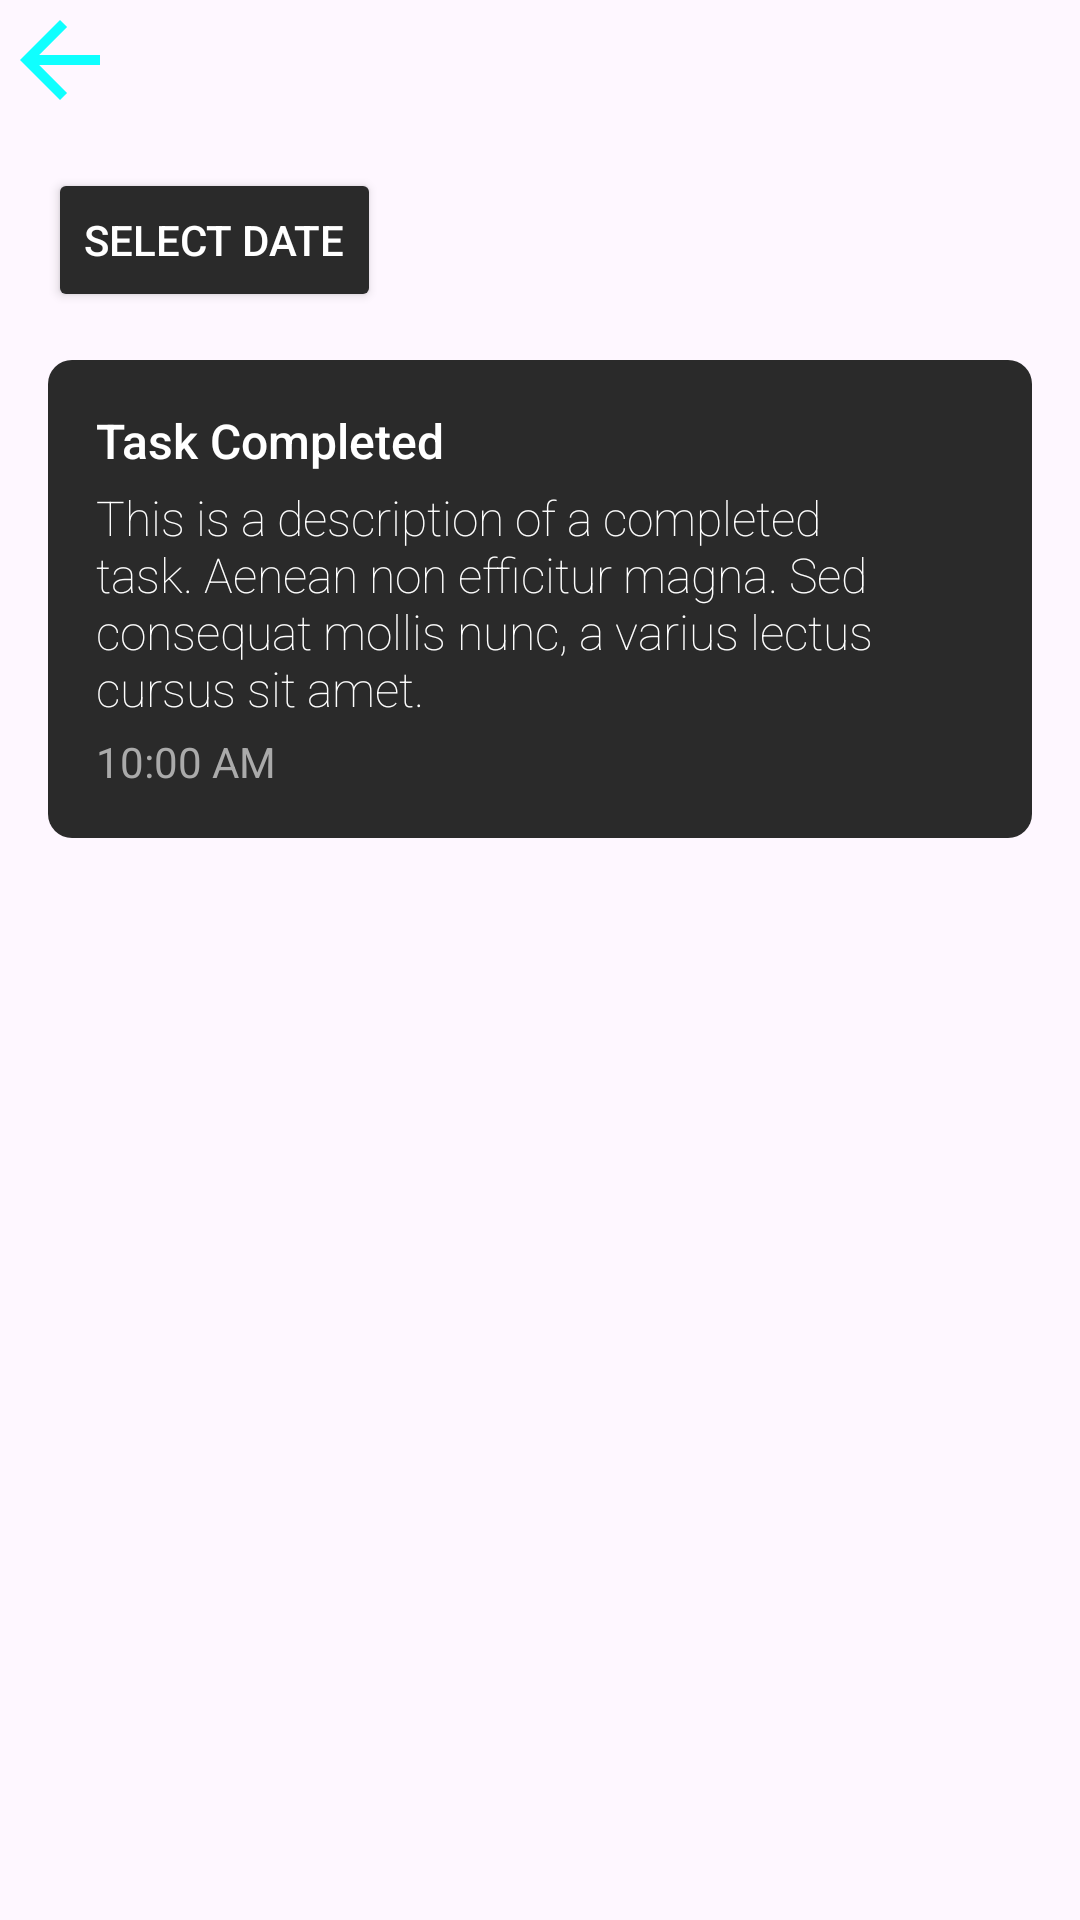

Icon click points for this 1080px×1920px phone screenshot, format point (x, y):
Back: point (60, 60)
